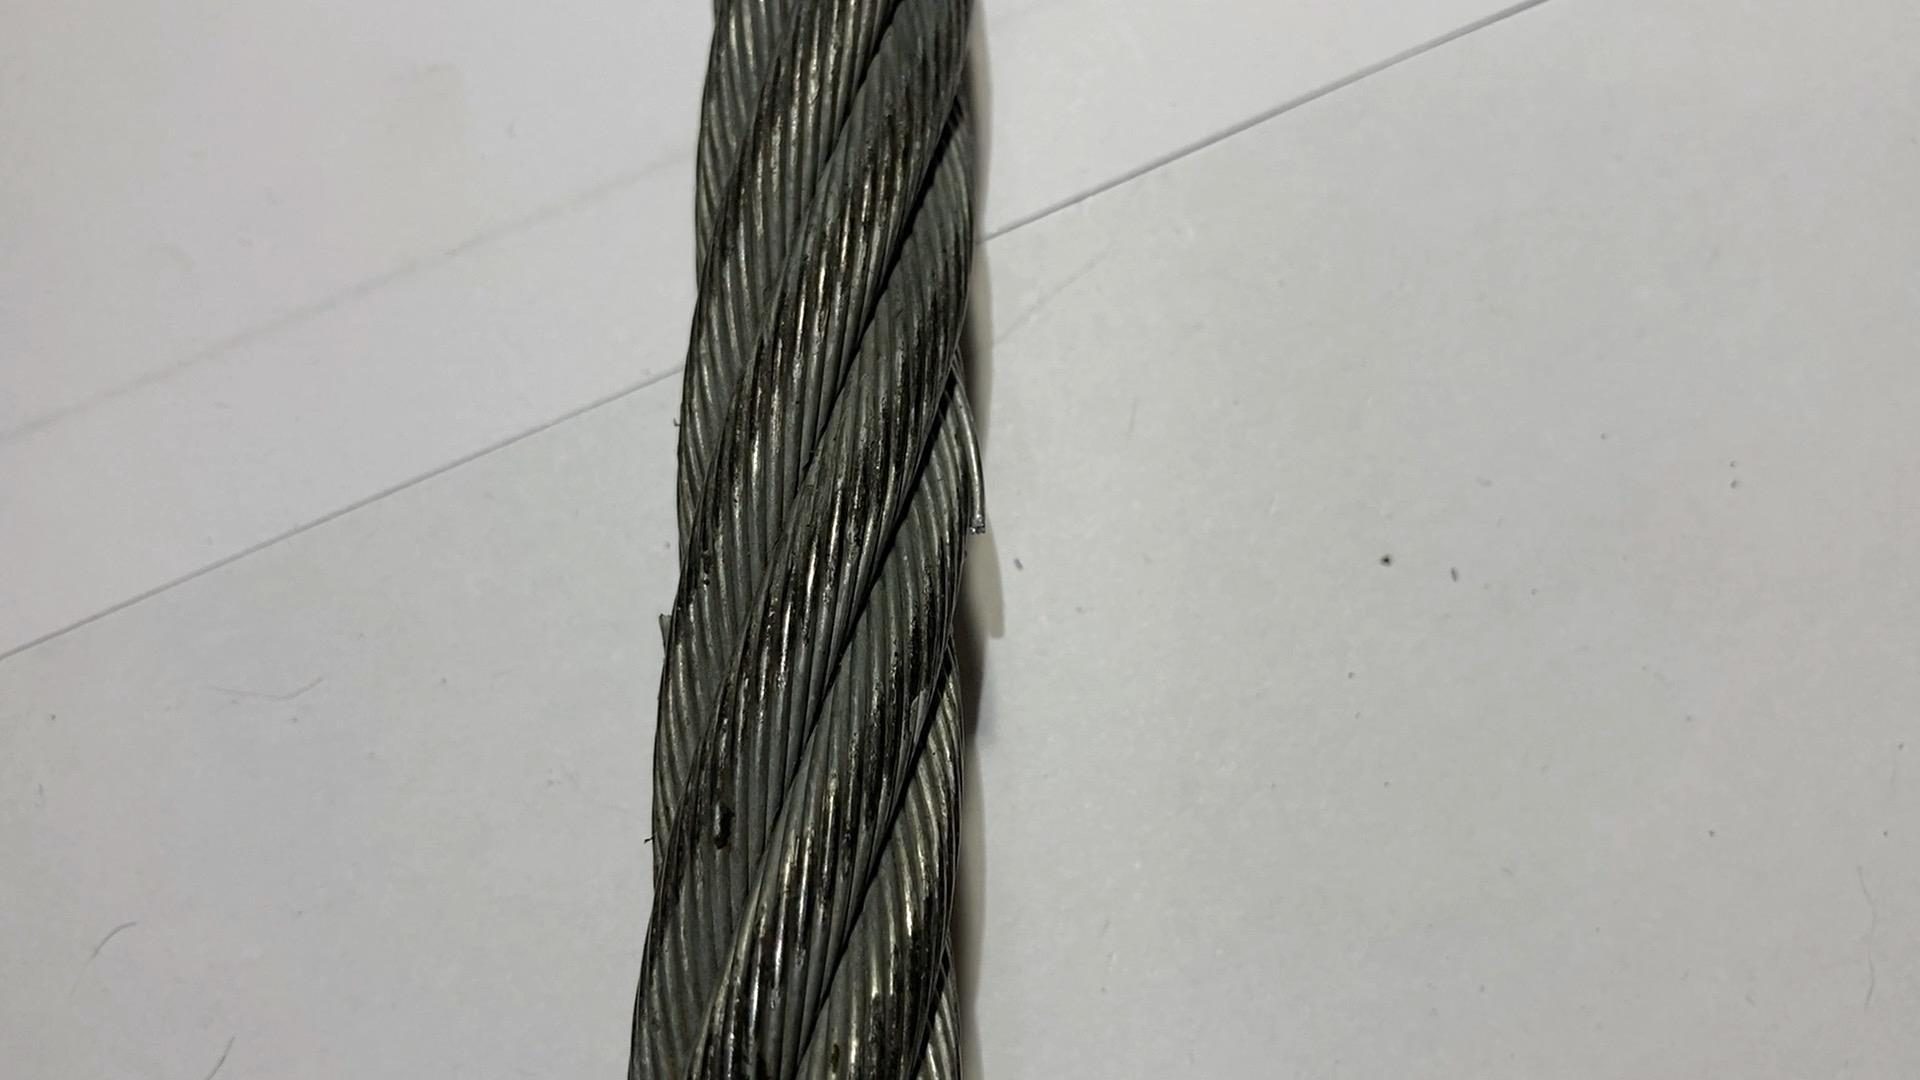break: (945, 371, 994, 541)
